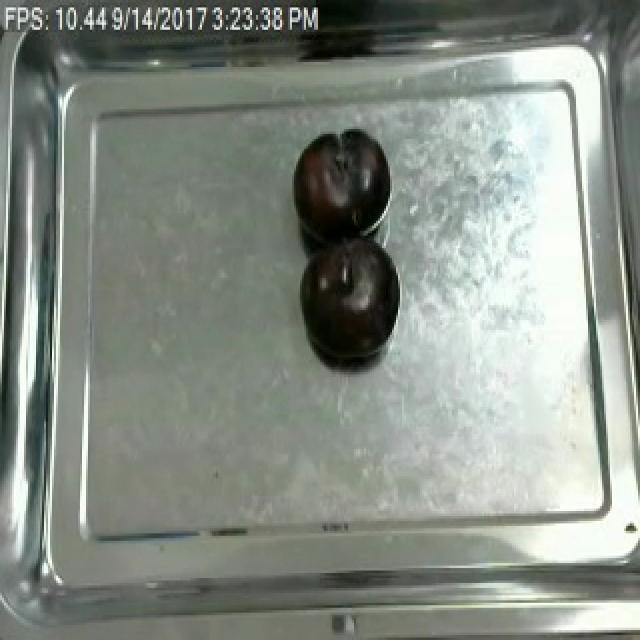Fruit: (296, 233, 398, 365), (288, 127, 392, 243)
